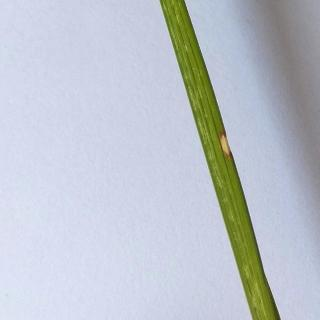Blast: (204, 110, 250, 179)
